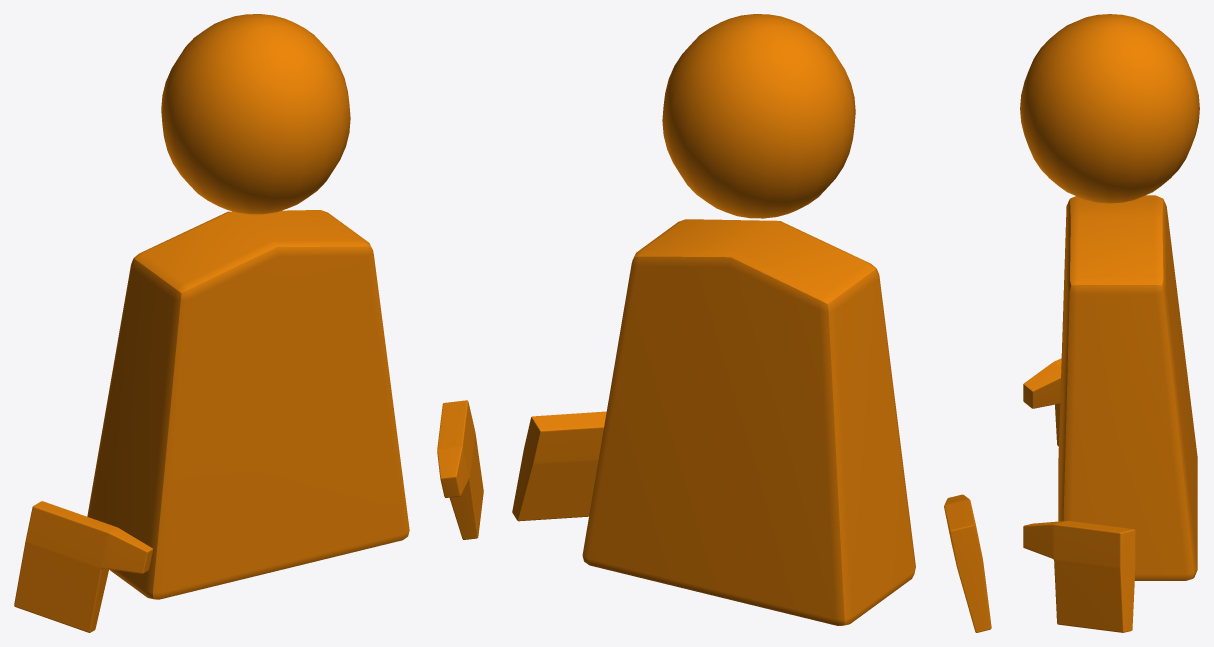
Rendered from Avatar.fbx.
3 renders of one model, left to right at view 1: azimuth 30°, elevation 25°; view 2: azimuth 150°, elevation 25°; view 3: azimuth 270°, elevation 25°, orthographic. The views are drawn at different scales.
Parts seen in each view (by area): view 1: Avatar1; view 2: Avatar1; view 3: Avatar1.
Boxes of the visible parts, left/top/right/bottom form: Avatar1: left=14, top=14, right=483, bottom=632; Avatar1: left=512, top=14, right=991, bottom=632; Avatar1: left=1020, top=14, right=1199, bottom=632.
Size of the model in its own units: 0.8747 by 0.9725 by 0.3075.
